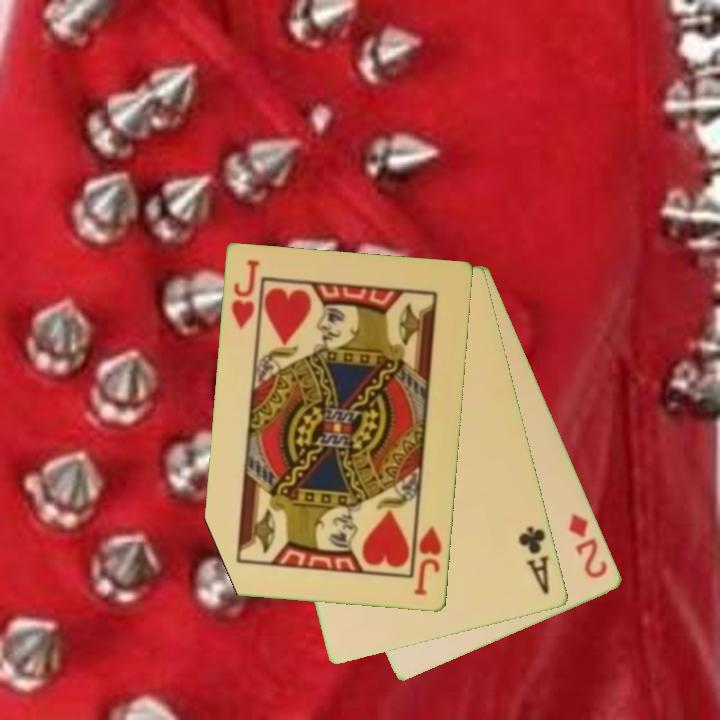2d: (565, 510, 611, 582)
Ac: (515, 522, 553, 598)
Jh: (410, 523, 445, 599), (228, 257, 263, 332)
